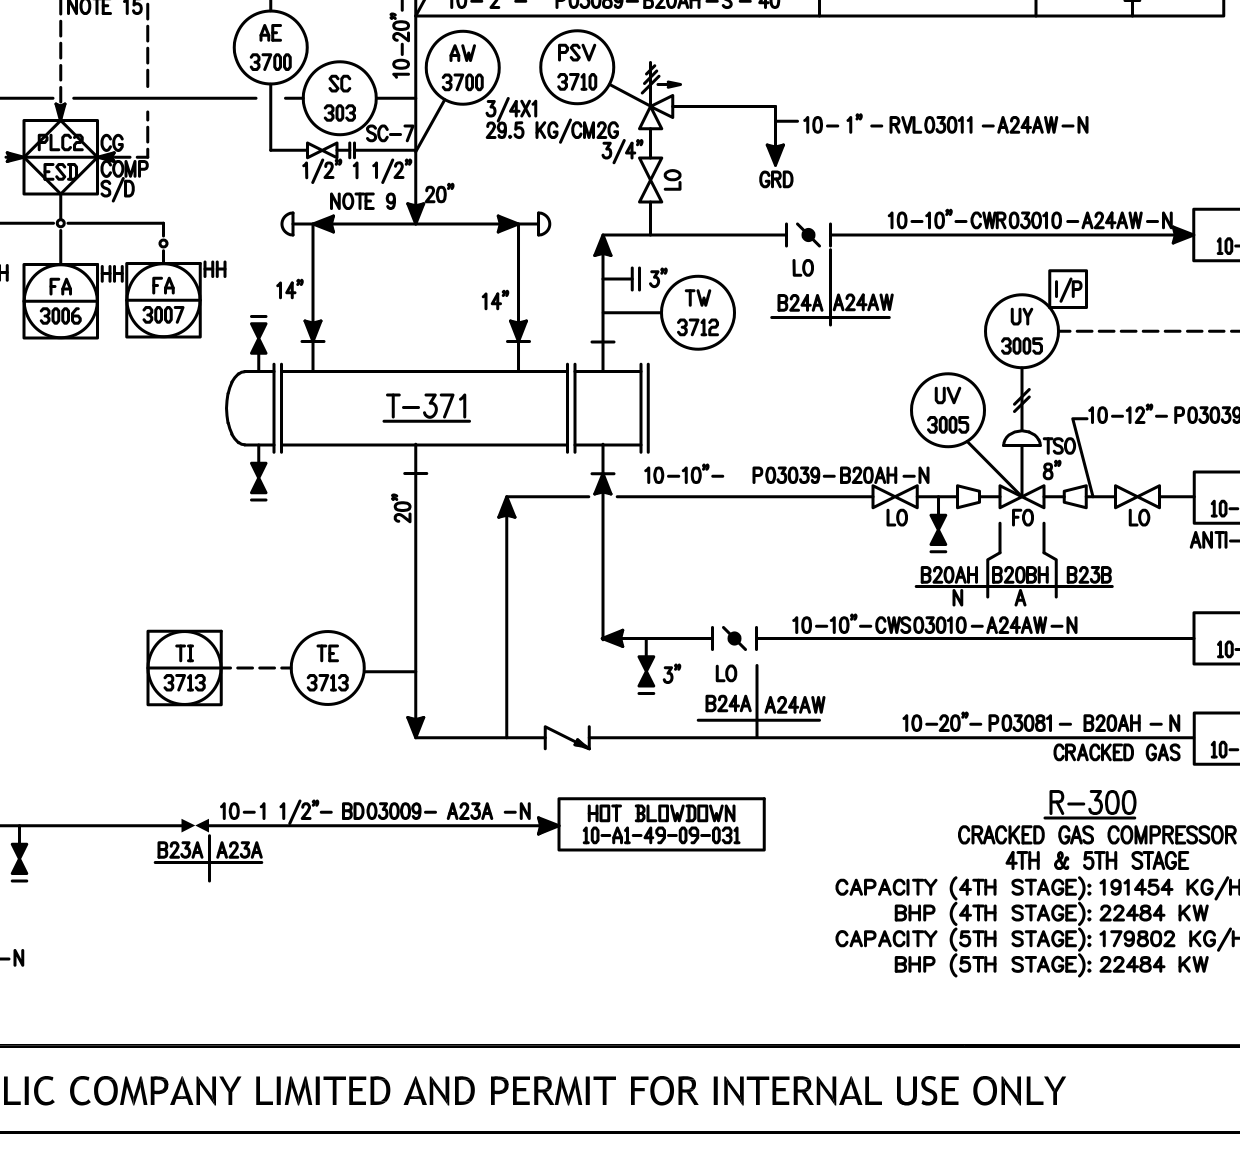Butterfly Valve: (704, 617, 766, 657), (778, 215, 839, 254)
Check Valve: (536, 720, 597, 759)
Instrument Tag: (286, 625, 373, 709), (142, 625, 230, 709), (120, 259, 206, 343), (656, 272, 742, 356), (980, 292, 1066, 376), (905, 367, 992, 450), (300, 57, 383, 137), (422, 27, 505, 108), (230, 7, 312, 87), (20, 260, 103, 339), (537, 26, 619, 105)
Line Number: (216, 797, 535, 823), (802, 112, 1096, 138), (787, 610, 1082, 636), (893, 708, 1187, 734), (640, 463, 934, 489), (883, 205, 1177, 231), (1087, 402, 1240, 428)
PSV: (634, 54, 688, 136)
Reducer: (949, 479, 988, 514), (1057, 479, 1096, 514)
Valve: (867, 478, 924, 516), (1109, 477, 1166, 515), (634, 152, 668, 208), (302, 135, 340, 163)
